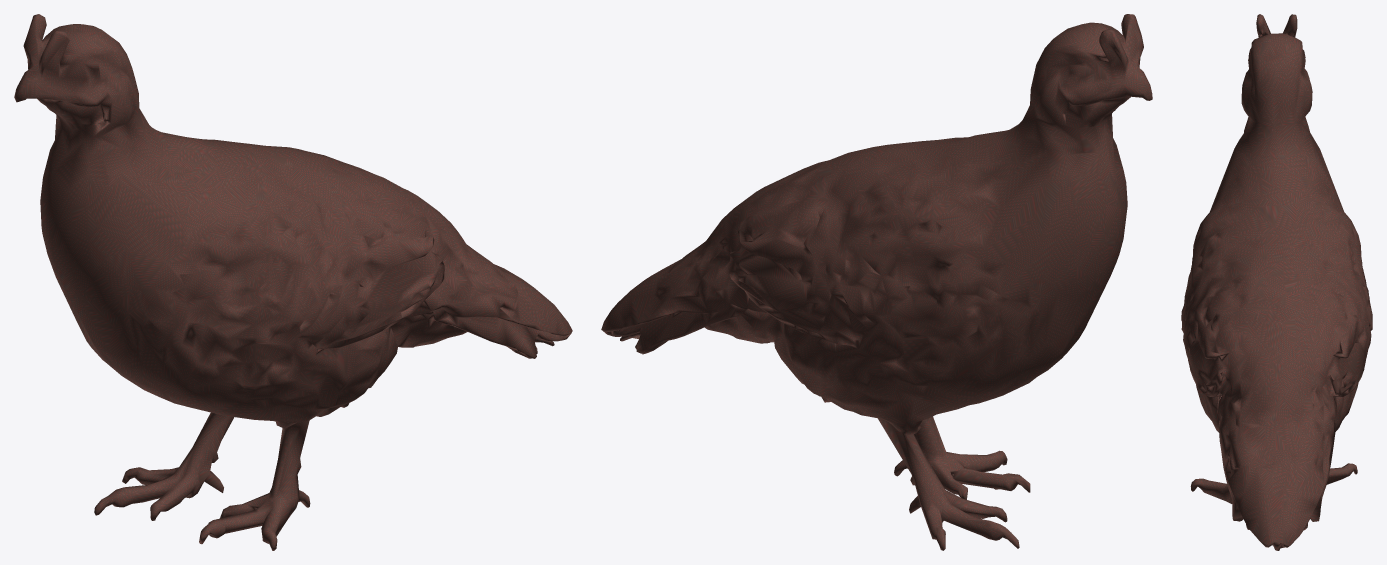
The model's file is hlg-tragopan.glb.
3 renders of one model, left to right at view 1: azimuth 30°, elevation 25°; view 2: azimuth 150°, elevation 25°; view 3: azimuth 270°, elevation 25°, orthographic. The views are drawn at different scales.
Visible parts, largest first — view 1: geometry_0; view 2: geometry_0; view 3: geometry_0.
Part boxes in pixels (box(x1,y1,x2,y2)): geometry_0: box(14, 14, 572, 550); geometry_0: box(601, 14, 1152, 550); geometry_0: box(1181, 14, 1372, 550).
Size of the model in its own units: 9817 by 9050 by 3807.
1 material, 1 textured.
